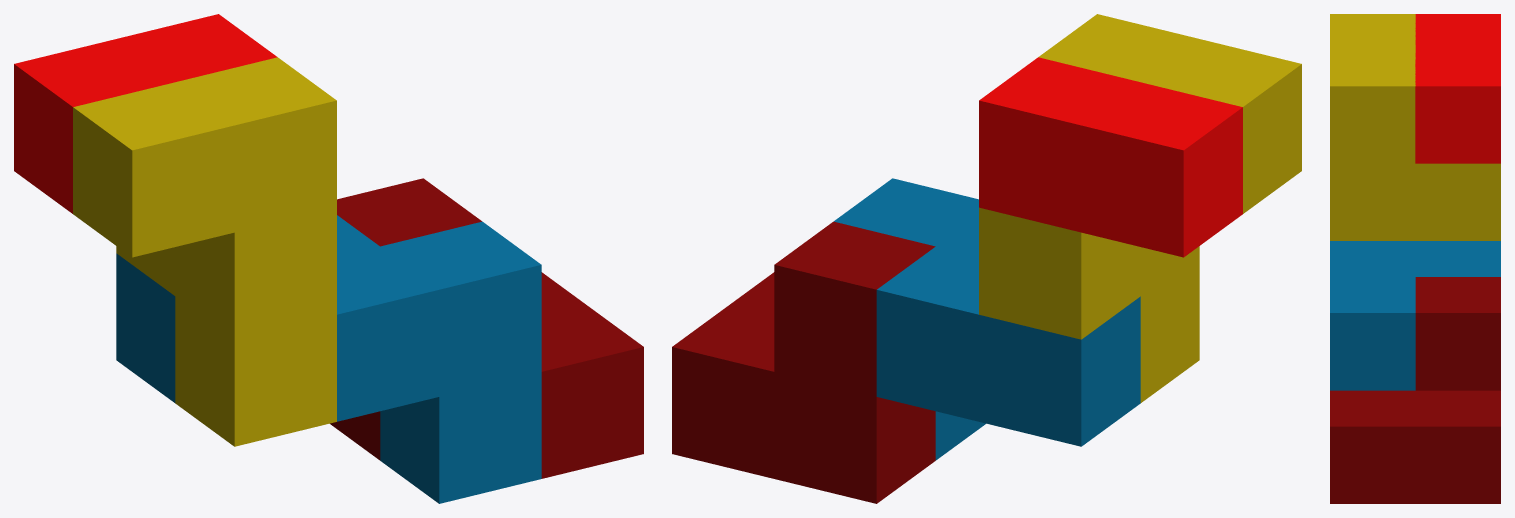
The picture shows the model from 3 angles, left to right: view 1: azimuth 30°, elevation 25°; view 2: azimuth 150°, elevation 25°; view 3: azimuth 270°, elevation 25°; orthographic projection. The views are drawn at different scales.
Visible parts, largest first — view 1: mergedBlocks(Clone); view 2: mergedBlocks(Clone); view 3: mergedBlocks(Clone).
Part boxes in pixels (x1,y1,x2,y2): mergedBlocks(Clone): [14, 14, 643, 503]; mergedBlocks(Clone): [672, 14, 1301, 503]; mergedBlocks(Clone): [1330, 14, 1500, 503].
Size of the model in its own units: 5 by 4 by 2.
Materials: 4 (4 with a texture image).
